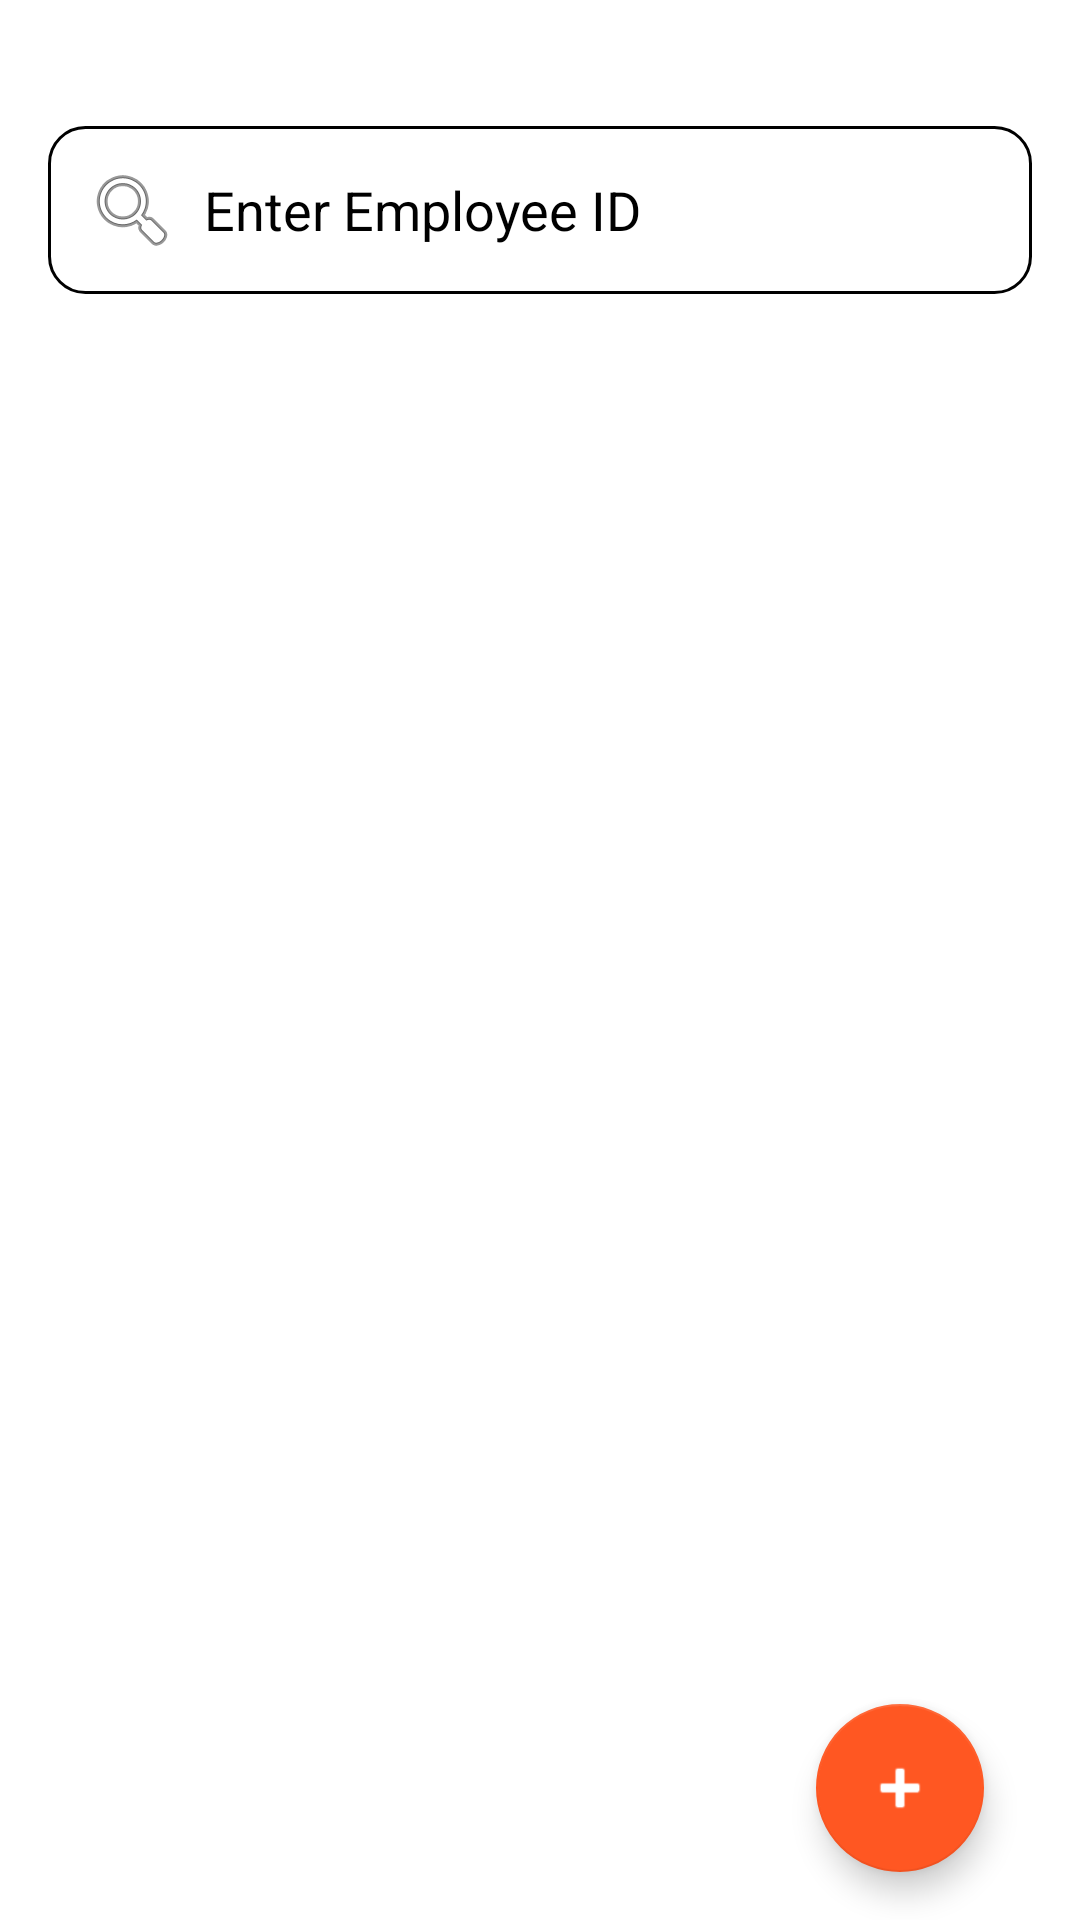

Icon click points for this 1080px×1920px phone screenshot, format (x=x, y=y):
Add Employee: (x=900, y=1788)
